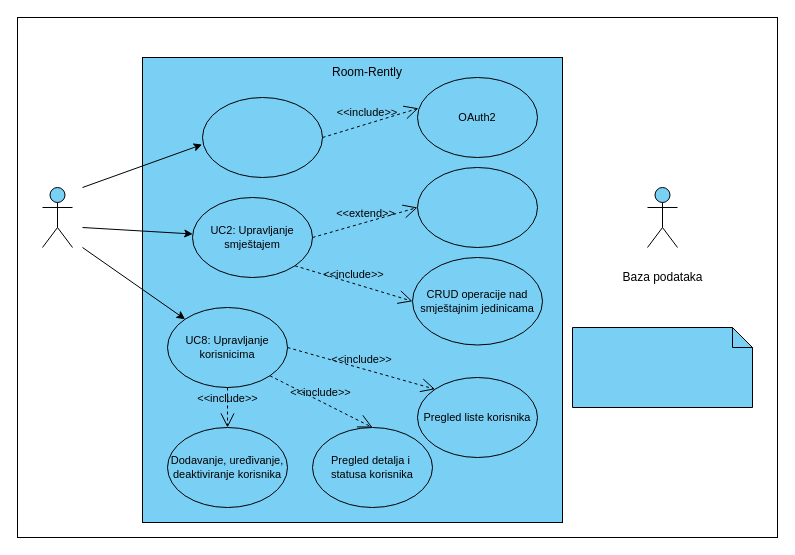
Image size: 795x555. Some labels were removed from this diagram. Each missing label, with the box of its shape:
Admin: (42, 186, 72, 248)
Svi obrasci uporabe komuniciraju s bazom podataka: (572, 326, 752, 408)
UC1: Prijava i registracija korisnika: (202, 96, 322, 178)
Validacija unosa: (416, 166, 538, 248)
